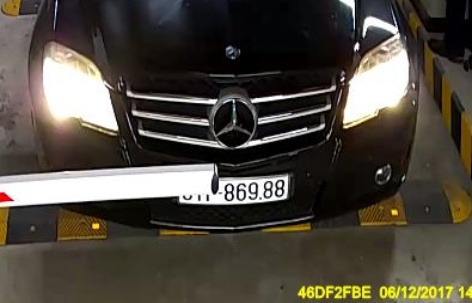plate: (180, 169, 291, 206)
